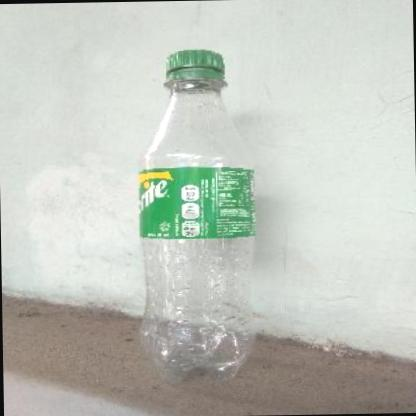plastic_bottles: (128, 46, 261, 387)
